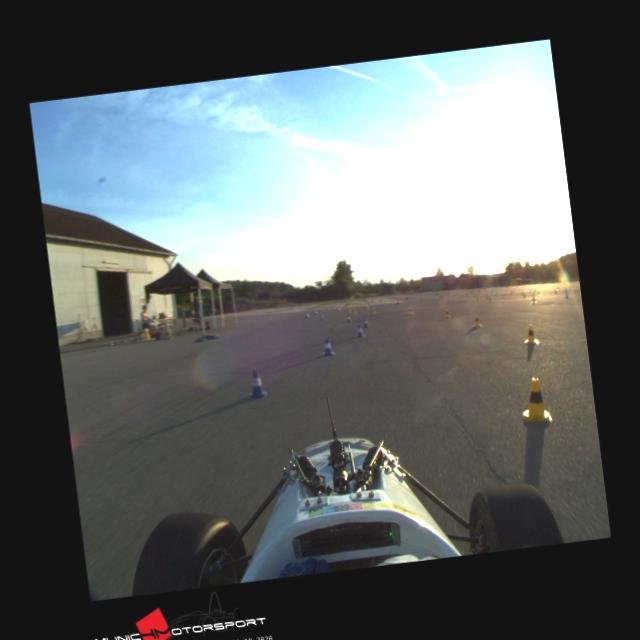blue_cone: (244, 368, 268, 400), (319, 336, 336, 356), (354, 323, 366, 338)
yellow_cone: (518, 376, 552, 424), (522, 324, 539, 346), (471, 314, 483, 328)
